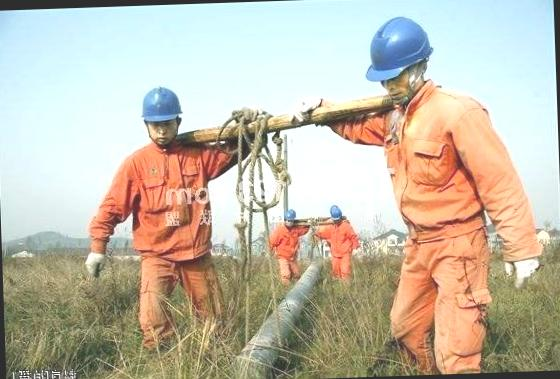helmet: (363, 14, 430, 84), (142, 86, 182, 124), (328, 203, 344, 218), (285, 208, 296, 220)
person: (339, 11, 513, 376), (78, 83, 230, 362), (320, 199, 358, 298), (266, 206, 307, 288)
